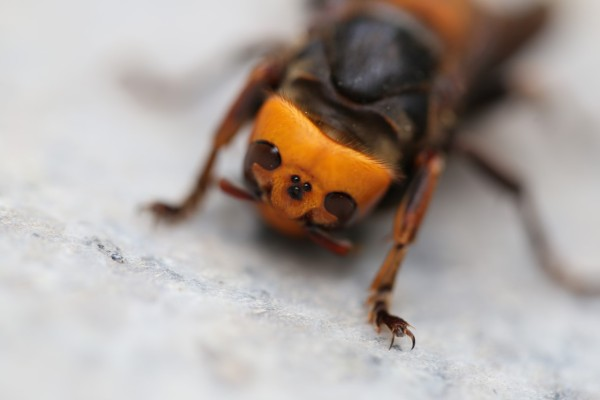asian_giant_hornet: (168, 1, 556, 348)
